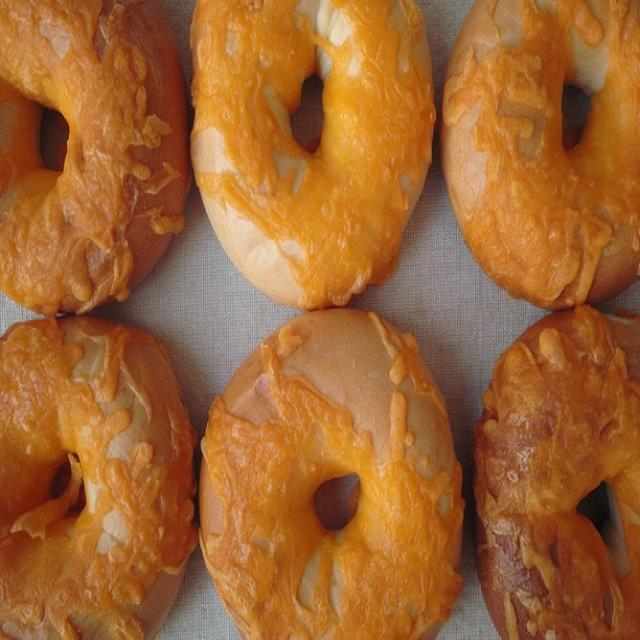面包点心: (3, 1, 628, 634)
